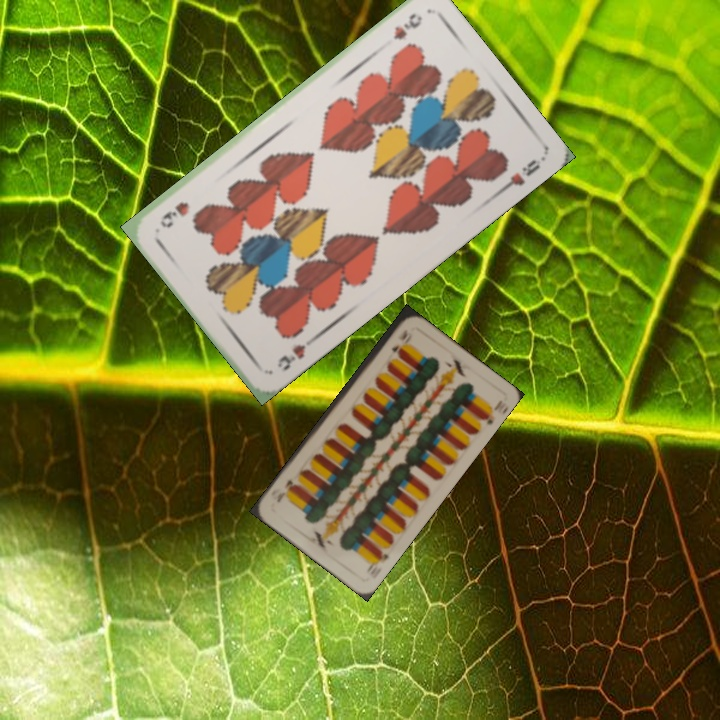E10: (364, 546, 391, 575), (387, 325, 410, 355)
H9: (273, 333, 317, 374), (389, 8, 425, 43)
